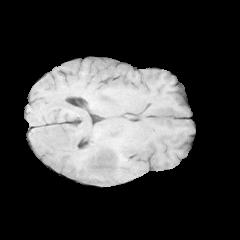glioma: (85, 144, 122, 177)
